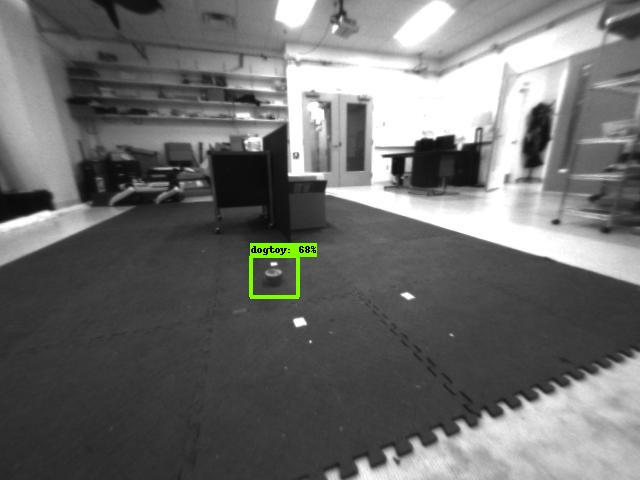dogtoy: (255, 258, 302, 295)
